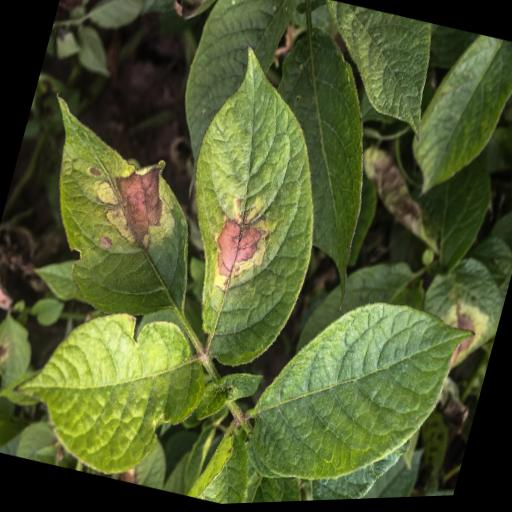Late Blight: (154, 46, 362, 386), (4, 85, 232, 329), (402, 249, 512, 396)
